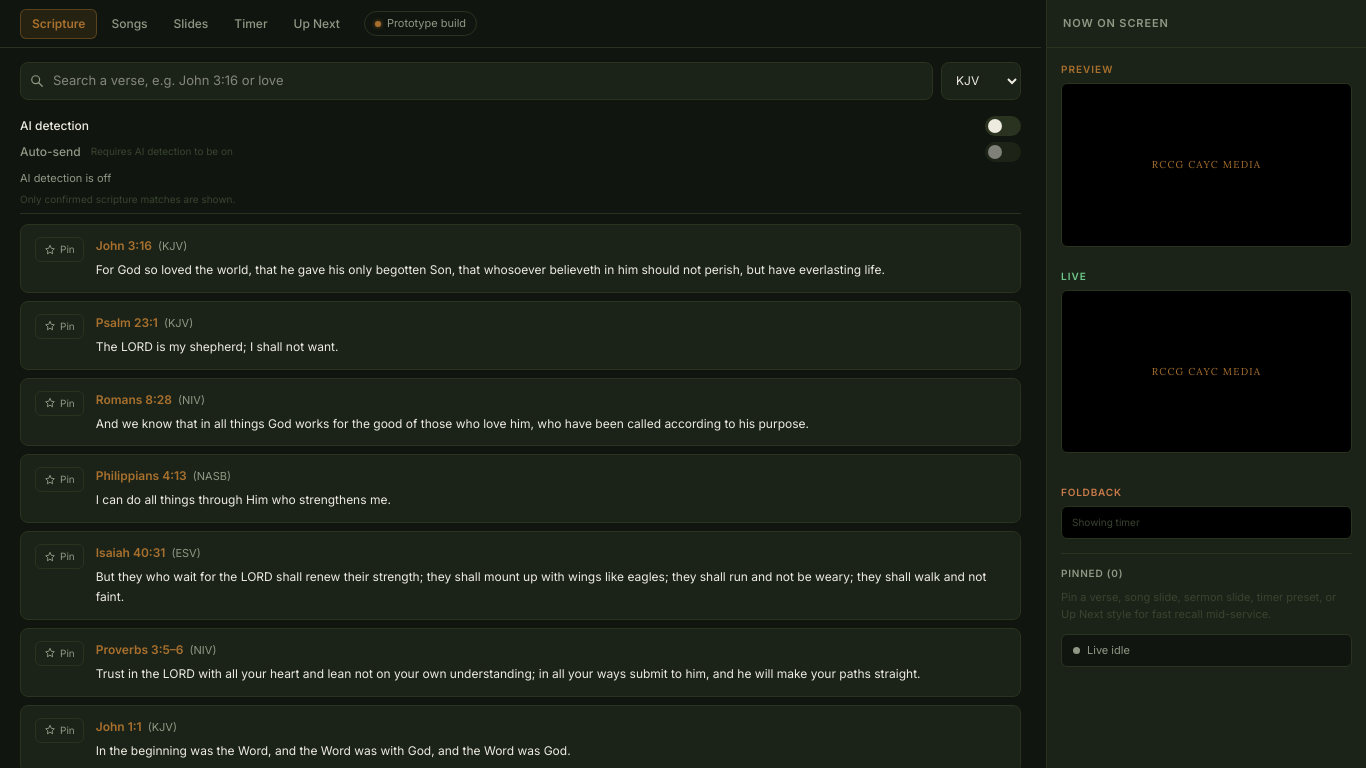
Scenario: OperatorScreen Scripture integration (real component, not just the hook) › Shift+click extends the Group to include the clicked verse
The width and height of the screenshot is (1366, 768).
Type "Mark 41:2-4" into the field with placeholder "Search a verse, e.g. John 3:16 or love" at x=476, y=81, box [20,62,933,100]
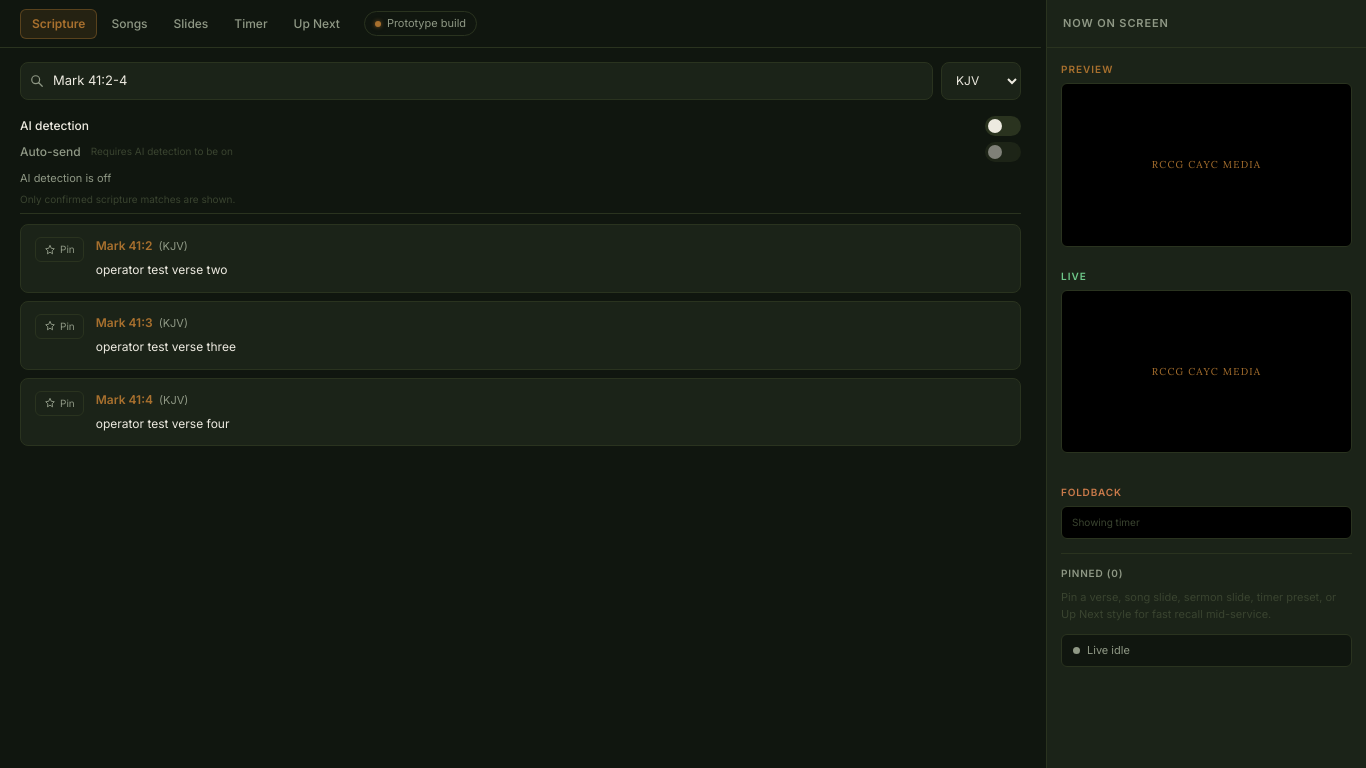
Press Enter in the field with placeholder "Search a verse, e.g. John 3:16 or love", box [20,62,933,100]
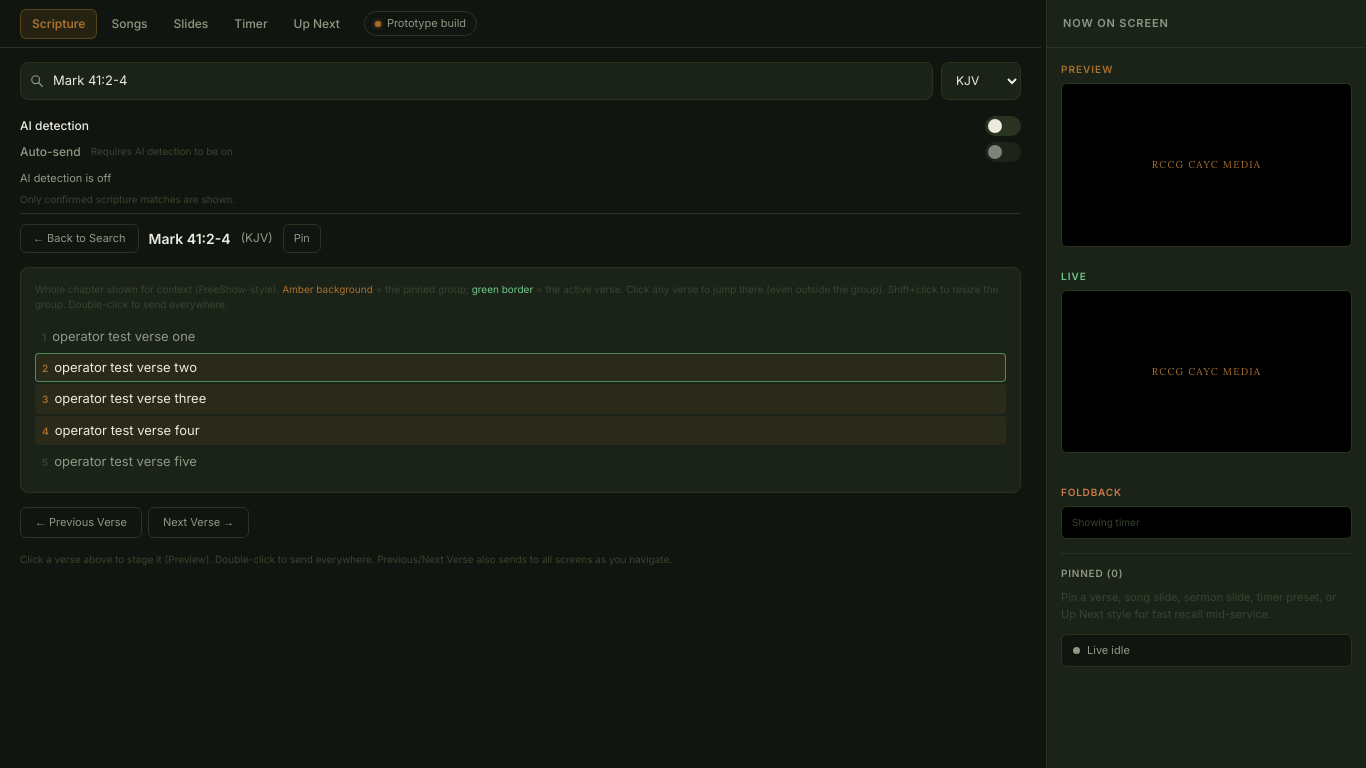
Click the text "operator test verse five" at x=119, y=461, box [42,453,197,469]
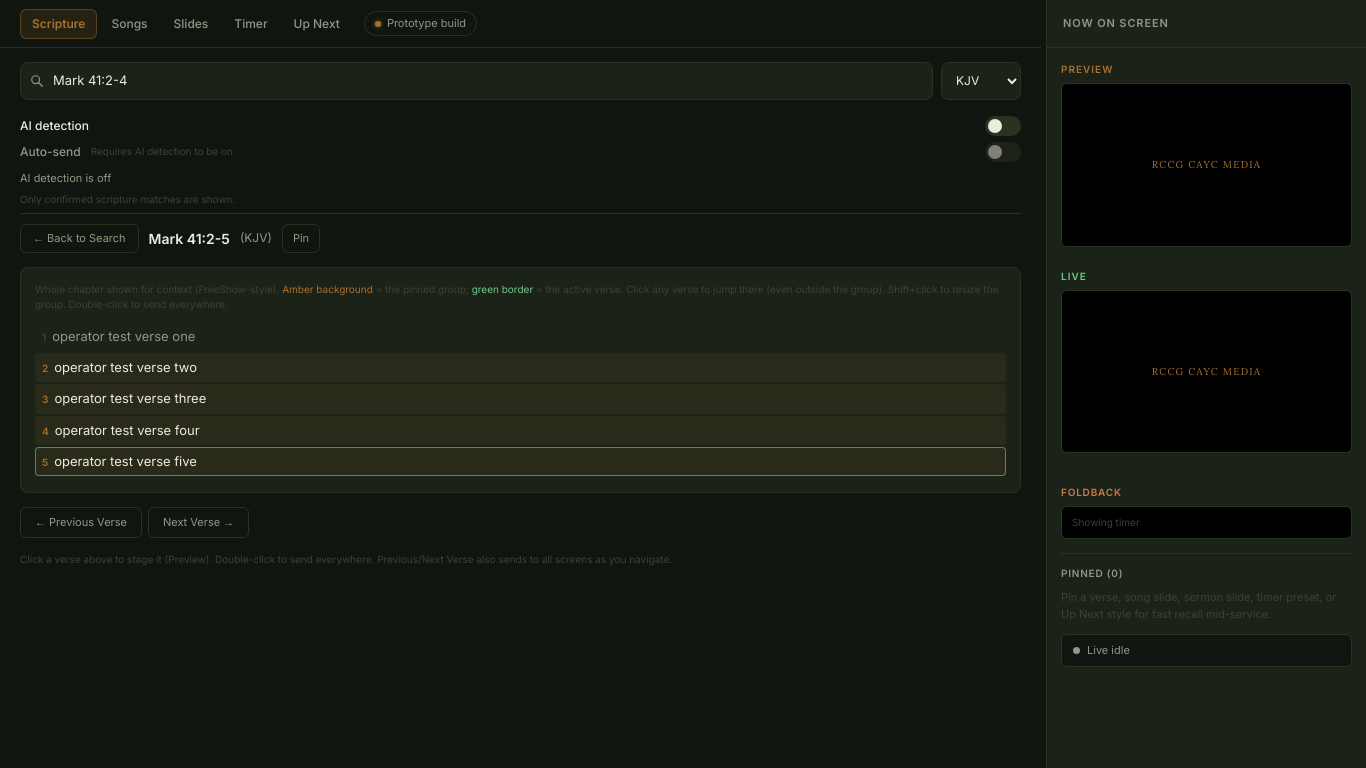
Expected: the text "Mark 41:2-5" is shown, [149,228,230,249]
